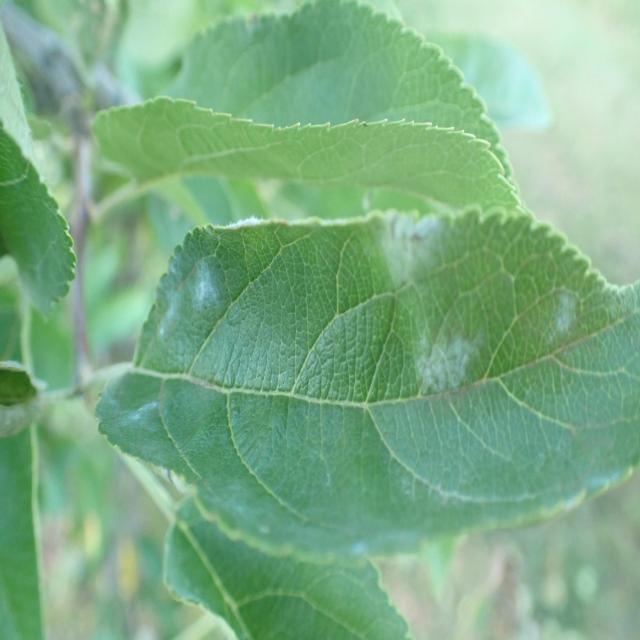Powdery_mildew: (122, 207, 640, 533)
